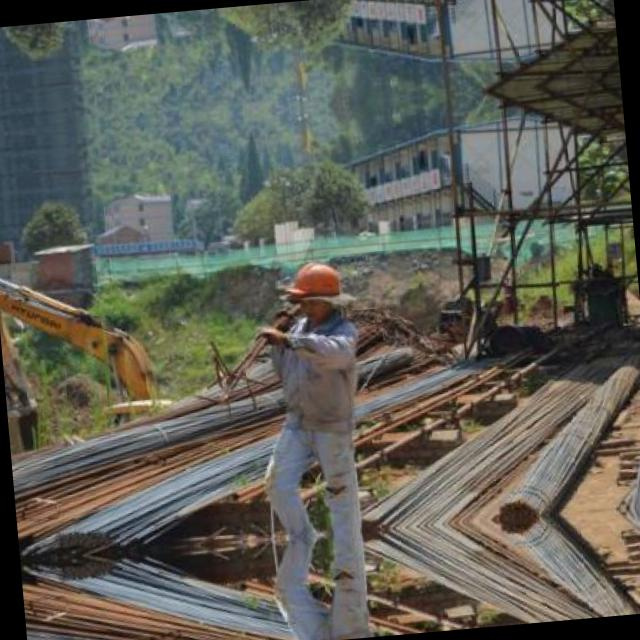helmet: (275, 252, 347, 324)
